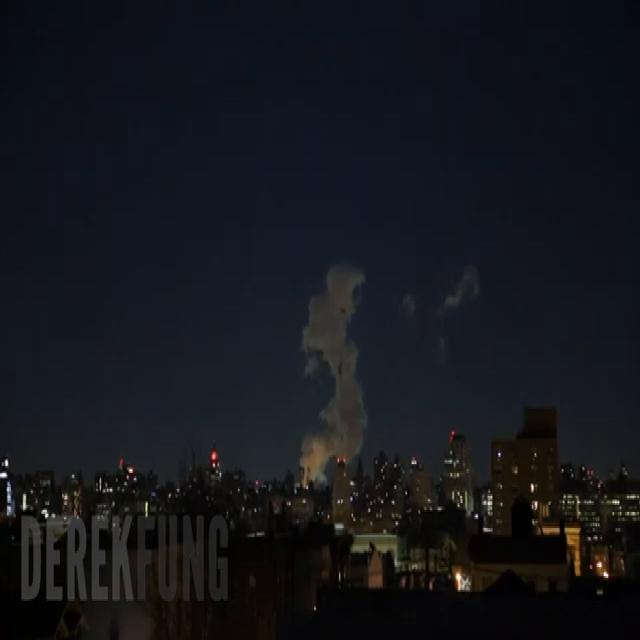smoke: (299, 265, 367, 478)
